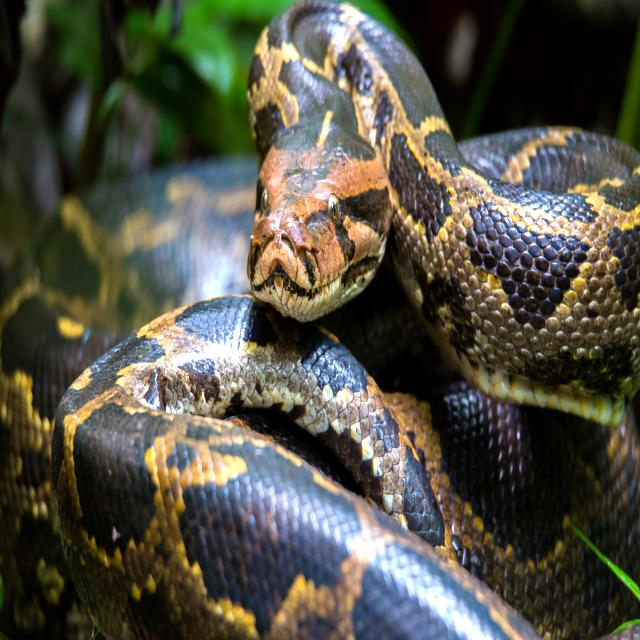Python bivittatus: (0, 0, 639, 638)
